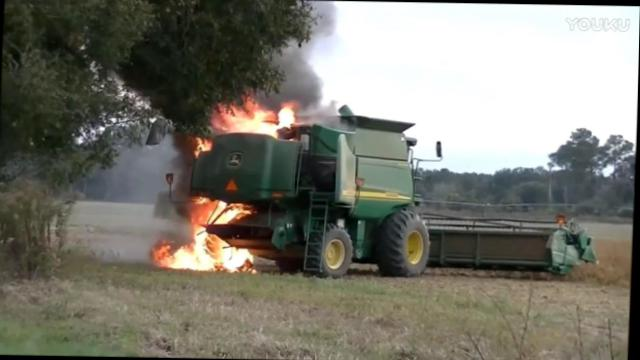fire: (214, 105, 278, 136), (205, 200, 239, 223), (223, 246, 251, 272), (205, 233, 223, 270), (192, 224, 206, 270), (173, 243, 191, 268), (152, 245, 174, 264), (277, 104, 295, 127), (194, 140, 212, 150)
